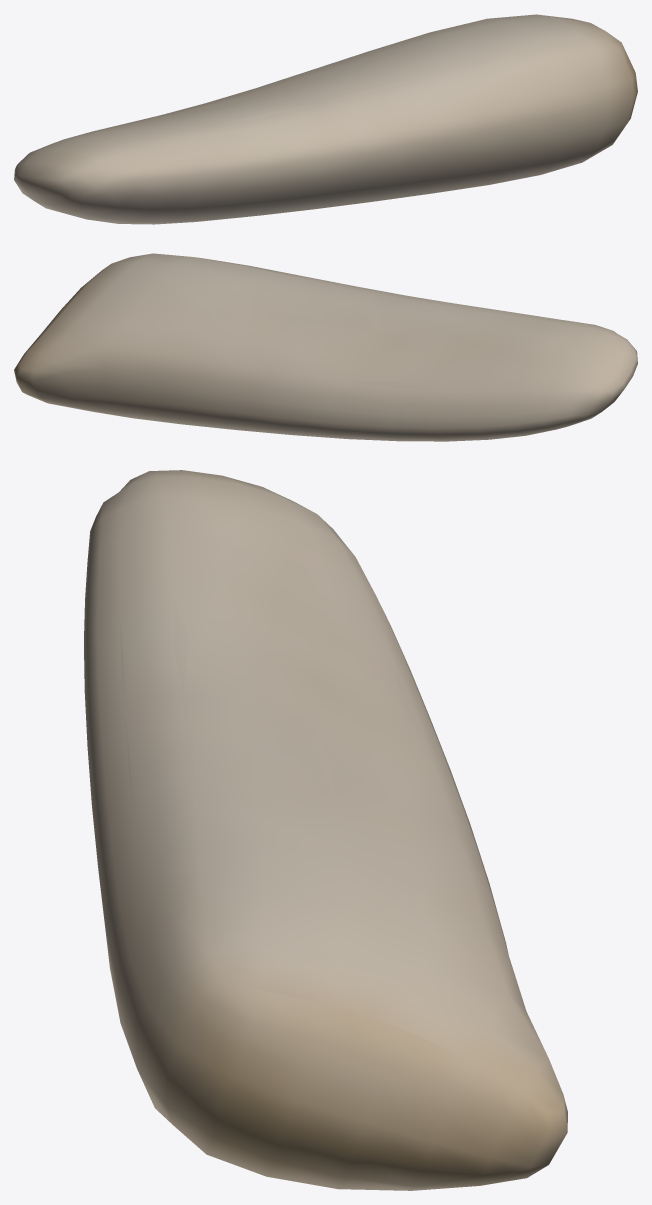
3 views of the same model, one above another, from view 1: azimuth 30°, elevation 25°; view 2: azimuth 150°, elevation 25°; view 3: azimuth 270°, elevation 25° (orthographic). The views are drawn at different scales.
Parts seen in each view (by area): view 1: CC R3, CC R3 low; view 2: CC R3, CC R3 low; view 3: CC R3, CC R3 low.
Boxes of the visible parts, box(x1,y1,x2,y2) form: CC R3: box(14, 14, 637, 224); CC R3 low: box(132, 53, 441, 145); CC R3: box(14, 253, 637, 441); CC R3 low: box(112, 278, 527, 395); CC R3: box(84, 470, 567, 1190); CC R3 low: box(119, 544, 448, 821).
Size of the model in its own units: 1.96 by 0.4837 by 0.7651.
Materials: 1 (1 with a texture image).
